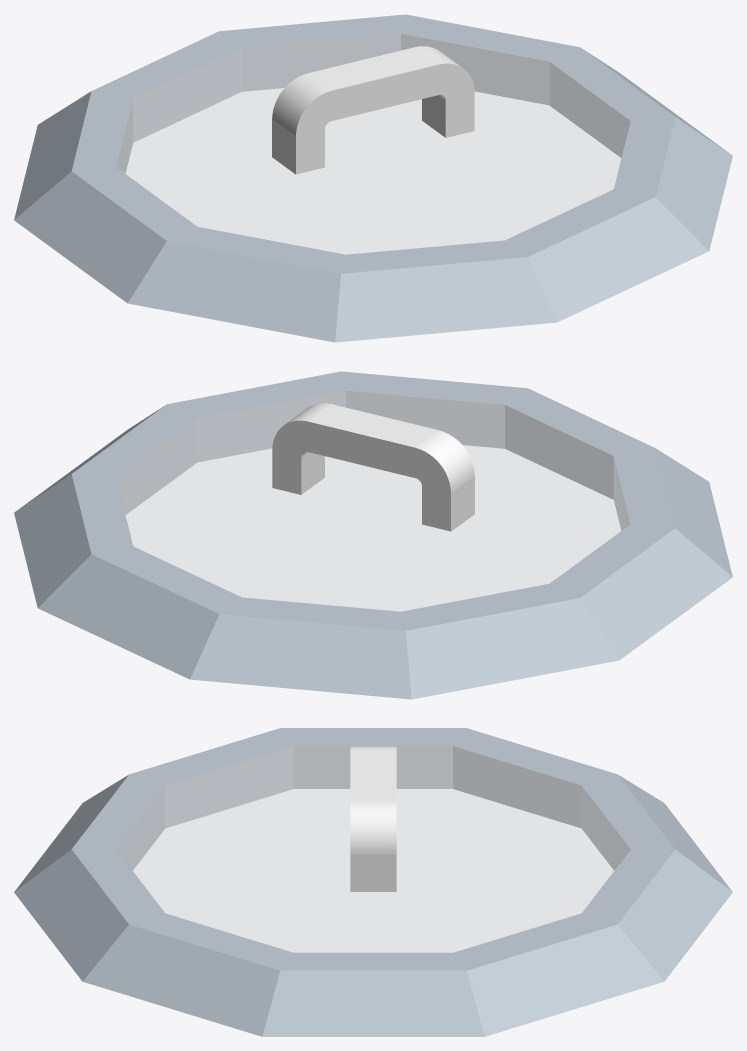
3 views of the same model, one above another, from view 1: azimuth 30°, elevation 25°; view 2: azimuth 150°, elevation 25°; view 3: azimuth 270°, elevation 25° (orthographic). The views are drawn at different scales.
Parts seen in each view (by area): view 1: fryingPanLid; view 2: fryingPanLid; view 3: fryingPanLid.
Part boxes in pixels (x1,y1,x2,y2): fryingPanLid: (14, 14, 732, 342); fryingPanLid: (14, 371, 732, 699); fryingPanLid: (14, 728, 732, 1036).
Size of the model in its own units: 0.5767 by 0.1085 by 0.6064.
